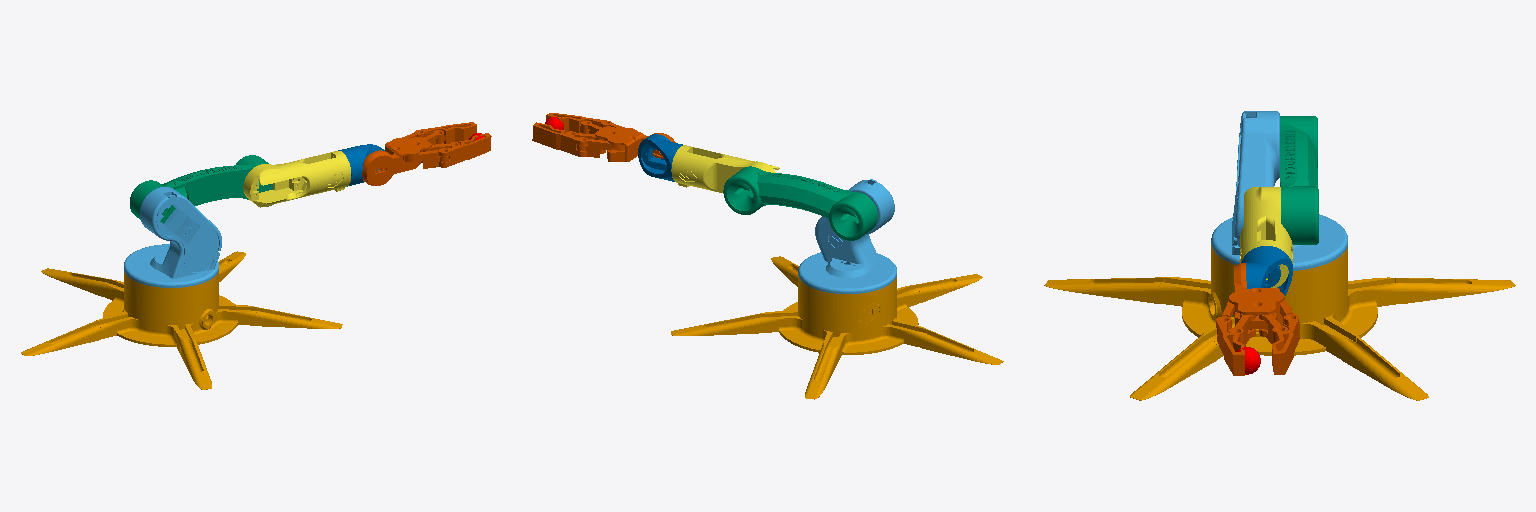
URDF robot description (Brazo_Robotico_simplificado):
<?xml version="1.0" ?>
<robot name="Brazo_Robotico_simplificado">

<link name="base_link">
  <inertial>
    <origin xyz="-0.0007270858050176268 -0.0005019766628555139 0.013924638601102612" rpy="0 0 0"/>
    <mass value="1.418433064876417"/>
    <inertia ixx="0.004372" iyy="0.004459" izz="0.008129" ixy="-1.5e-05" iyz="1e-05" ixz="5e-06"/>
  </inertial>
  <visual>
    <origin xyz="0 0 0" rpy="0 0 0"/>
    <geometry>
      <mesh filename="../meshes/base_link.stl" scale="0.001 0.001 0.001"/>
    </geometry>
    <material name="silver"/>
  </visual>
  <collision>
    <origin xyz="0 0 0" rpy="0 0 0"/>
    <geometry>
      <mesh filename="../meshes/base_link.stl" scale="0.001 0.001 0.001"/>
    </geometry>
  </collision>
</link>

<link name="Hombro_1">
  <inertial>
    <origin xyz="0.0016960080250573383 -0.008785466191224627 0.03152011638798324" rpy="0 0 0"/>
    <mass value="0.8313845534838161"/>
    <inertia ixx="0.000962" iyy="0.001126" izz="0.000673" ixy="1.7e-05" iyz="0.000103" ixz="0.000104"/>
  </inertial>
  <visual>
    <origin xyz="-0.0 0.0 -0.05675" rpy="0 0 0"/>
    <geometry>
      <mesh filename="../meshes/Hombro_1.stl" scale="0.001 0.001 0.001"/>
    </geometry>
    <material name="silver"/>
  </visual>
  <collision>
    <origin xyz="-0.0 0.0 -0.05675" rpy="0 0 0"/>
    <geometry>
      <mesh filename="../meshes/Hombro_1.stl" scale="0.001 0.001 0.001"/>
    </geometry>
  </collision>
</link>

<link name="Antebrazo__4__1">
  <inertial>
    <origin xyz="0.0601345633672561 0.012197351391211293 0.002390069808791362" rpy="0 0 0"/>
    <mass value="0.6612384725163569"/>
    <inertia ixx="0.000127" iyy="0.001969" izz="0.001921" ixy="-7e-06" iyz="2e-06" ixz="-6e-06"/>
  </inertial>
  <visual>
    <origin xyz="0.013919 7e-05 -0.127026" rpy="0 0 0"/>
    <geometry>
      <mesh filename="../meshes/Antebrazo__4__1.stl" scale="0.001 0.001 0.001"/>
    </geometry>
    <material name="silver"/>
  </visual>
  <collision>
    <origin xyz="0.013919 7e-05 -0.127026" rpy="0 0 0"/>
    <geometry>
      <mesh filename="../meshes/Antebrazo__4__1.stl" scale="0.001 0.001 0.001"/>
    </geometry>
  </collision>
</link>

<link name="Brazo_1">
  <inertial>
    <origin xyz="0.040972352747272456 -0.008444041626832158 -0.0007951944015303358" rpy="0 0 0"/>
    <mass value="0.4123889856718602"/>
    <inertia ixx="8.7e-05" iyy="0.000468" izz="0.000447" ixy="-7e-06" iyz="-2e-06" ixz="-6e-06"/>
  </inertial>
  <visual>
    <origin xyz="-0.106079 -0.000536 -0.127348" rpy="0 0 0"/>
    <geometry>
      <mesh filename="../meshes/Brazo_1.stl" scale="0.001 0.001 0.001"/>
    </geometry>
    <material name="silver"/>
  </visual>
  <collision>
    <origin xyz="-0.106079 -0.000536 -0.127348" rpy="0 0 0"/>
    <geometry>
      <mesh filename="../meshes/Brazo_1.stl" scale="0.001 0.001 0.001"/>
    </geometry>
  </collision>
</link>

<link name="Wrist_1">
  <inertial>
    <origin xyz="0.021423616346244984 -0.005445272945609633 -0.0004670798063788062" rpy="0 0 0"/>
    <mass value="0.16883749961433217"/>
    <inertia ixx="3.2e-05" iyy="5.8e-05" izz="4.4e-05" ixy="4e-06" iyz="1e-06" ixz="0.0"/>
  </inertial>
  <visual>
    <origin xyz="-0.195879 0.00951 -0.126719" rpy="0 0 0"/>
    <geometry>
      <mesh filename="../meshes/Wrist_1.stl" scale="0.001 0.001 0.001"/>
    </geometry>
    <material name="silver"/>
  </visual>
  <collision>
    <origin xyz="-0.195879 0.00951 -0.126719" rpy="0 0 0"/>
    <geometry>
      <mesh filename="../meshes/Wrist_1.stl" scale="0.001 0.001 0.001"/>
    </geometry>
  </collision>
</link>

<link name="End_1">
  <inertial>
    <origin xyz="0.05508264159307061 0.005570835607559388 0.001842647383082957" rpy="0 0 0"/>
    <mass value="0.3903681821760111"/>
    <inertia ixx="0.000105" iyy="0.000558" izz="0.000632" ixy="-4.9e-05" iyz="-3e-06" ixz="-2e-06"/>
  </inertial>
  <visual>
    <origin xyz="-0.228448 0.023539 -0.126161" rpy="0 0 0"/>
    <geometry>
      <mesh filename="../meshes/End_1.stl" scale="0.001 0.001 0.001"/>
    </geometry>
    <material name="silver"/>
  </visual>
  <collision>
    <origin xyz="-0.228448 0.023539 -0.126161" rpy="0 0 0"/>
    <geometry>
      <mesh filename="../meshes/End_1.stl" scale="0.001 0.001 0.001"/>
    </geometry>
  </collision>
</link>

<joint name="joint_1" type="revolute">
  <origin xyz="0.0 0.0 0.05675" rpy="0 0 0"/>
  <parent link="base_link"/>
  <child link="Hombro_1"/>
  <axis xyz="0.0 -0.0 1.0"/>
  <limit lower="-0.2094" upper="2.9321" effort="10.0" velocity="1.0"/>
</joint>

<joint name="joint_2" type="revolute">
  <origin xyz="-0.013919 -7e-05 0.070276" rpy="0 0 0"/>
  <parent link="Hombro_1"/>
  <child link="Antebrazo__4__1"/>
  <axis xyz="0.005057 -0.999987 -0.0"/>
  <limit lower="-0.8552" upper="2.2863" effort="10.0" velocity="1.0"/>
</joint>

<joint name="joint_3" type="revolute">
  <origin xyz="0.119998 0.000606 0.000322" rpy="0 0 0"/>
  <parent link="Antebrazo__4__1"/>
  <child link="Brazo_1"/>
  <axis xyz="-0.005057 0.999987 0.0"/>
  <limit lower="-1.3089" upper="1.8325" effort="10.0" velocity="1.0"/>
</joint>

<joint name="joint_4" type="fixed">
  <origin xyz="0.0898 -0.010046 -0.000629" rpy="0 0 0"/>
  <parent link="Brazo_1"/>
  <child link="Wrist_1"/>
  </joint>

<joint name="joint_5" type="revolute">
  <origin xyz="0.032569 -0.014029 -0.000558" rpy="0 0 0"/>
  <parent link="Wrist_1"/>
  <child link="End_1"/>
  <axis xyz="0.00492 -0.999586 -0.028363"/>
  <limit lower="-1.8499" upper="1.2915" effort="10.0" velocity="1.0"/>
</joint>

<link name="tcp_punta_garra">
  <visual>
    <geometry>
      <sphere radius="0.01"/> 
    </geometry>
    <material name="red">
      <color rgba="1 0 0 1"/>
    </material>
  </visual>
</link>

<joint name="fix_tcp" type="fixed">
  <parent link="End_1"/>
  <child link="tcp_punta_garra"/>
  <origin xyz="0.12 0 0" rpy="0 0 0"/> </joint>

</robot>

--- What the picture shows (computed from the rendered views, not written in the file) ---
Views: 3 orthographic renders of the robot side by side, from view 1: azimuth 30°, elevation 25°; view 2: azimuth 150°, elevation 25°; view 3: azimuth 270°, elevation 25°.
Model Brazo_Robotico_simplificado with 7 links and 6 joints (4 revolute, 2 fixed), rooted at base_link, posed all joints at 0.
Visible links, largest first — view 1: base_link, Hombro_1, End_1, Brazo_1, Antebrazo__4__1, Wrist_1; view 2: base_link, Antebrazo__4__1, Hombro_1, End_1, Brazo_1, Wrist_1; view 3: base_link, Hombro_1, End_1, Antebrazo__4__1, Brazo_1, Wrist_1.
Boxes of the visible links, left/top/right/bottom form: base_link: left=21, top=251, right=342, bottom=389; Hombro_1: left=124, top=187, right=221, bottom=287; End_1: left=362, top=122, right=491, bottom=185; Brazo_1: left=243, top=151, right=350, bottom=207; Antebrazo__4__1: left=130, top=155, right=272, bottom=223; Wrist_1: left=338, top=144, right=384, bottom=186; base_link: left=671, top=256, right=1003, bottom=399; Antebrazo__4__1: left=723, top=166, right=877, bottom=240; Hombro_1: left=798, top=179, right=896, bottom=293; End_1: left=532, top=113, right=675, bottom=161; Brazo_1: left=671, top=145, right=779, bottom=193; Wrist_1: left=638, top=134, right=682, bottom=181; base_link: left=1044, top=245, right=1515, bottom=400; Hombro_1: left=1211, top=111, right=1347, bottom=270; End_1: left=1216, top=263, right=1299, bottom=375; Antebrazo__4__1: left=1280, top=116, right=1318, bottom=244; Brazo_1: left=1240, top=187, right=1292, bottom=287; Wrist_1: left=1241, top=246, right=1292, bottom=295.
Size in the robot's own frame: 0.5343 by 0.3366 by 0.1522 metres.
6 mesh visuals loaded from 6 distinct referenced files (6 binary STL).
